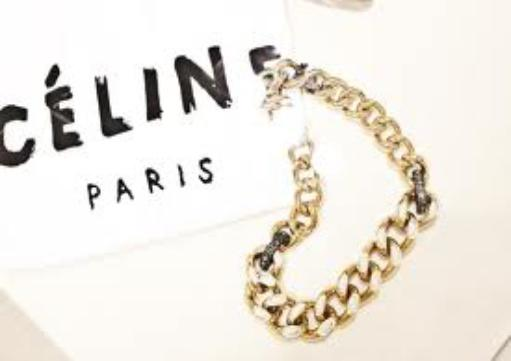CELINE: (1, 29, 295, 167)
